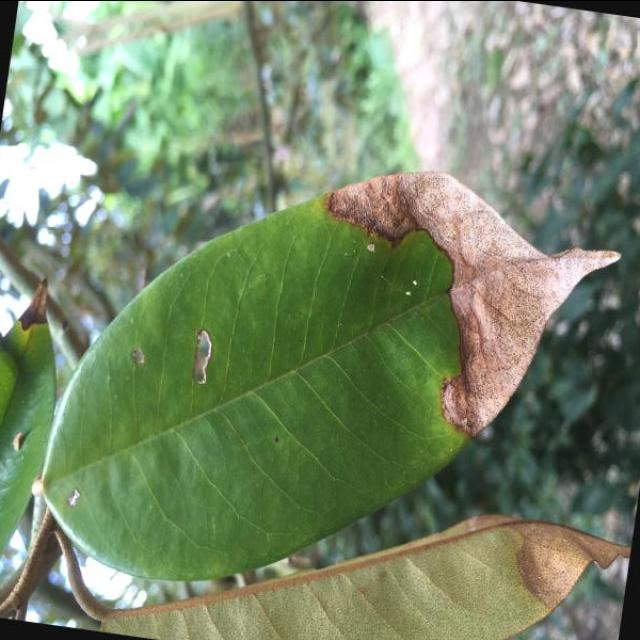Leaf Blight: (9, 111, 640, 640)
